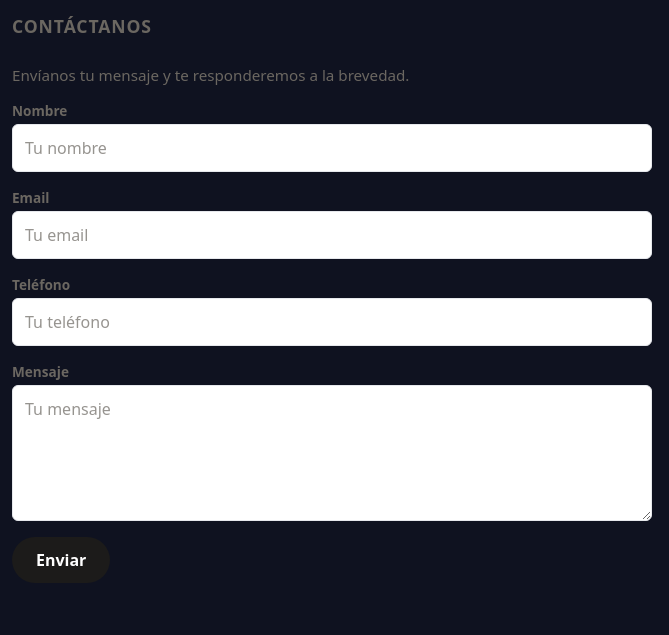
it: ContactSection › muestra el error del API cuando responde 400
In the field labelled "Nombre": (332, 148) [12,124,652,172], type "Juan Pérez"
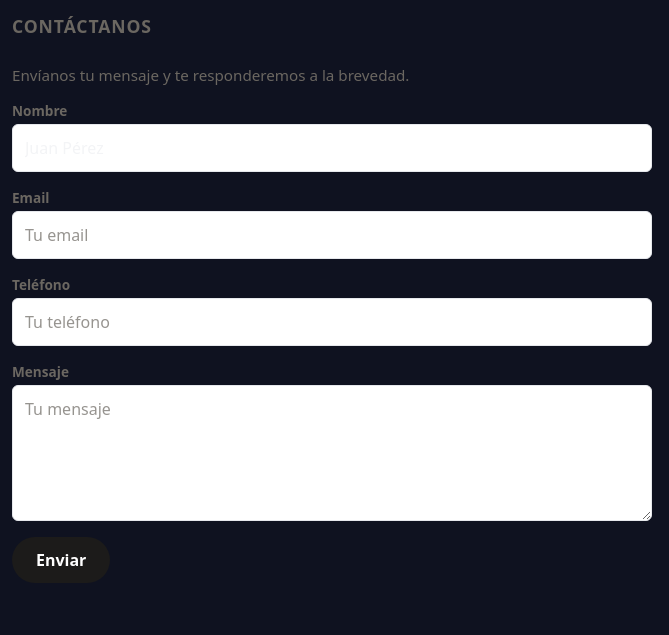
In the field labelled "Email": (332, 235) [12,211,652,259], type "juan@mail.com"
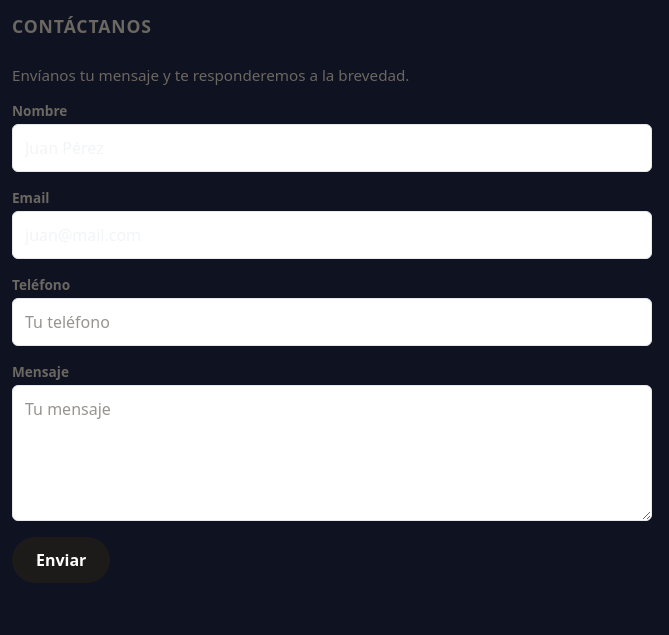
In the field labelled "Teléfono": (332, 322) [12,298,652,346], type "+56912345678"
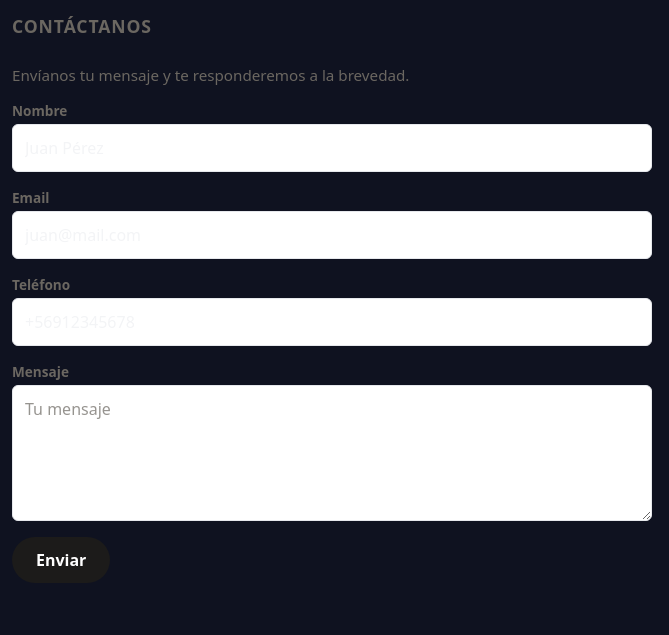
In the text box labelled "Mensaje": (332, 453) [12,385,652,521], type "Hola, quiero auspiciar"
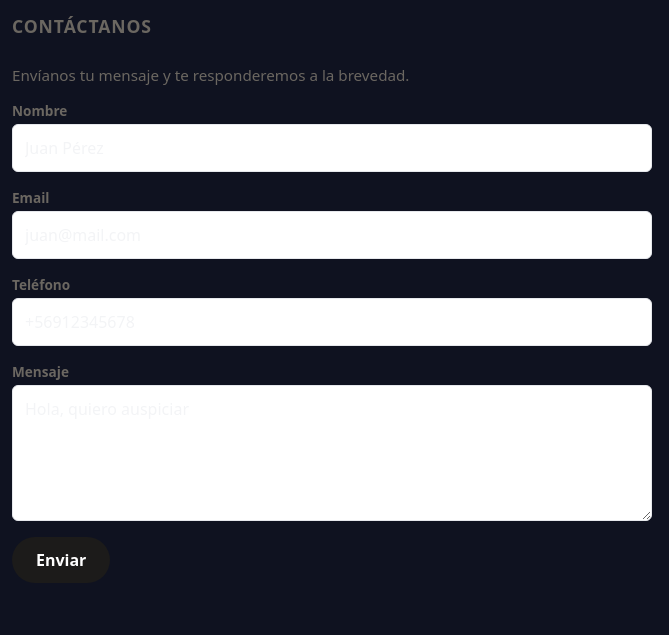
Click the button "Enviar": (61, 560) [12,537,110,583]
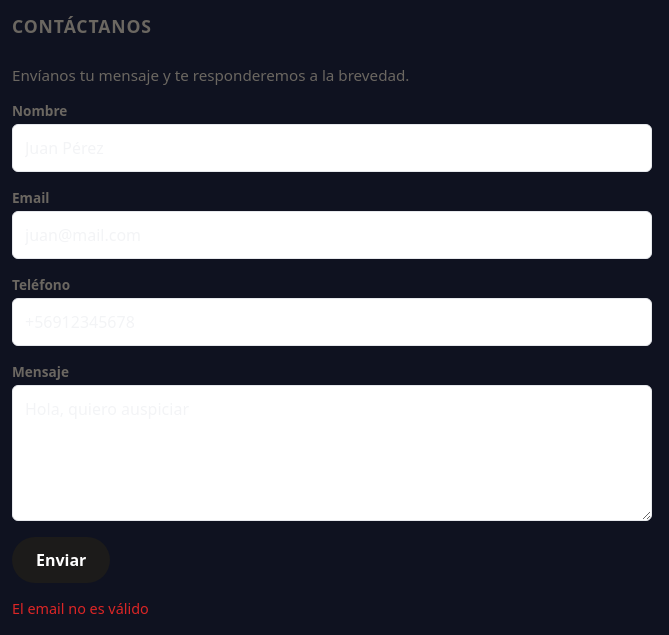
Expected: the text "El email no es válido" is shown, [12,599,149,618]
